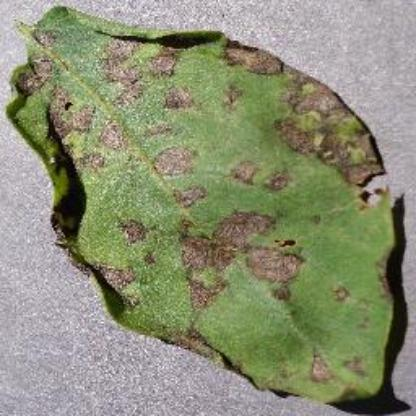Early-Blight: (6, 6, 400, 404)
